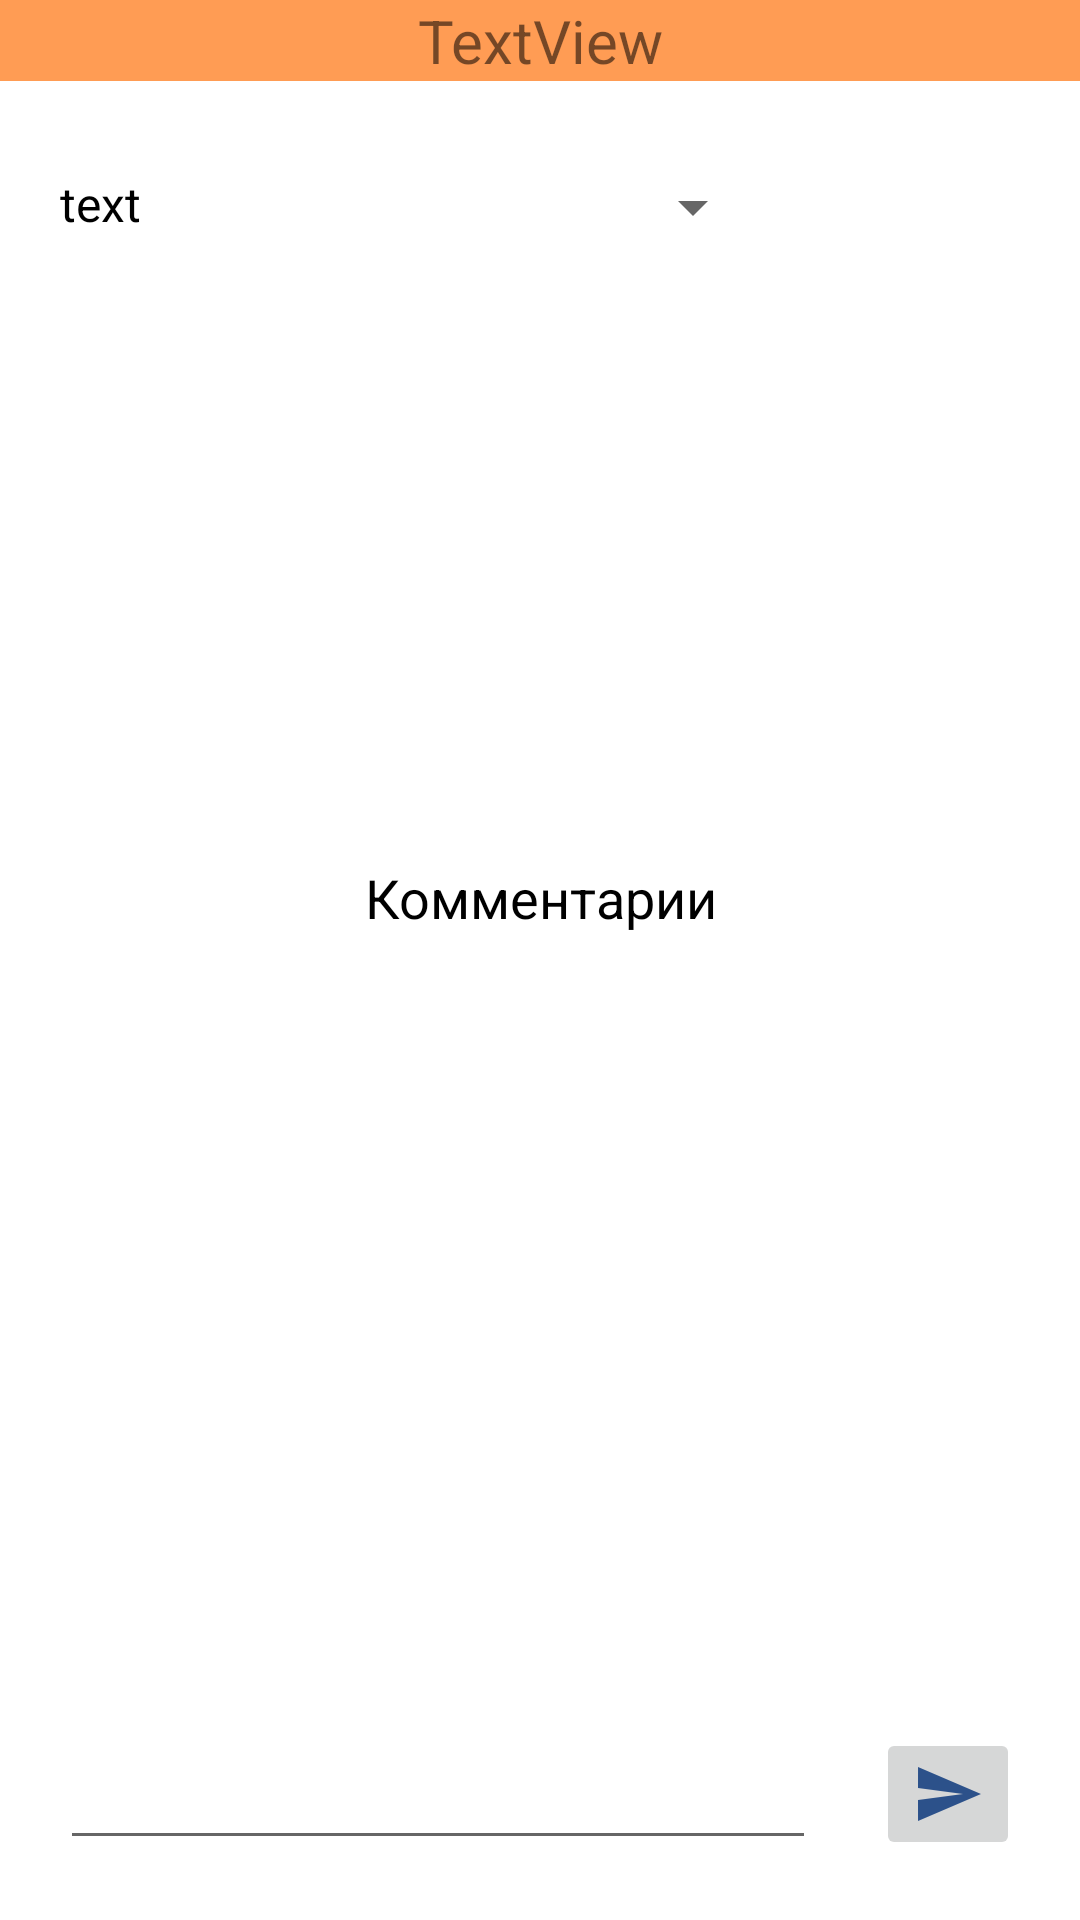

Icon bounding boxes for this 1080*1920 phone screenshot, format (x1, y1, x2, y2):
send: (888, 1746, 1008, 1842)
